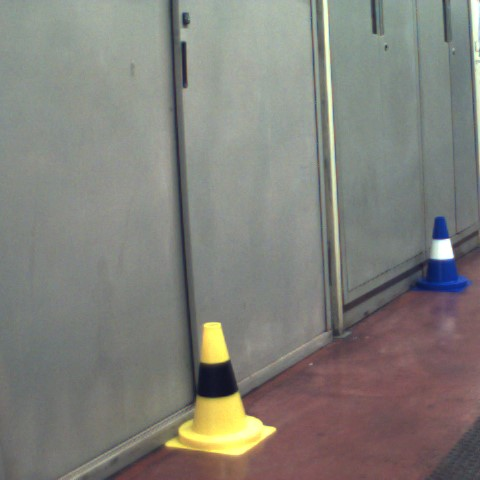cone: (412, 214, 470, 294)
